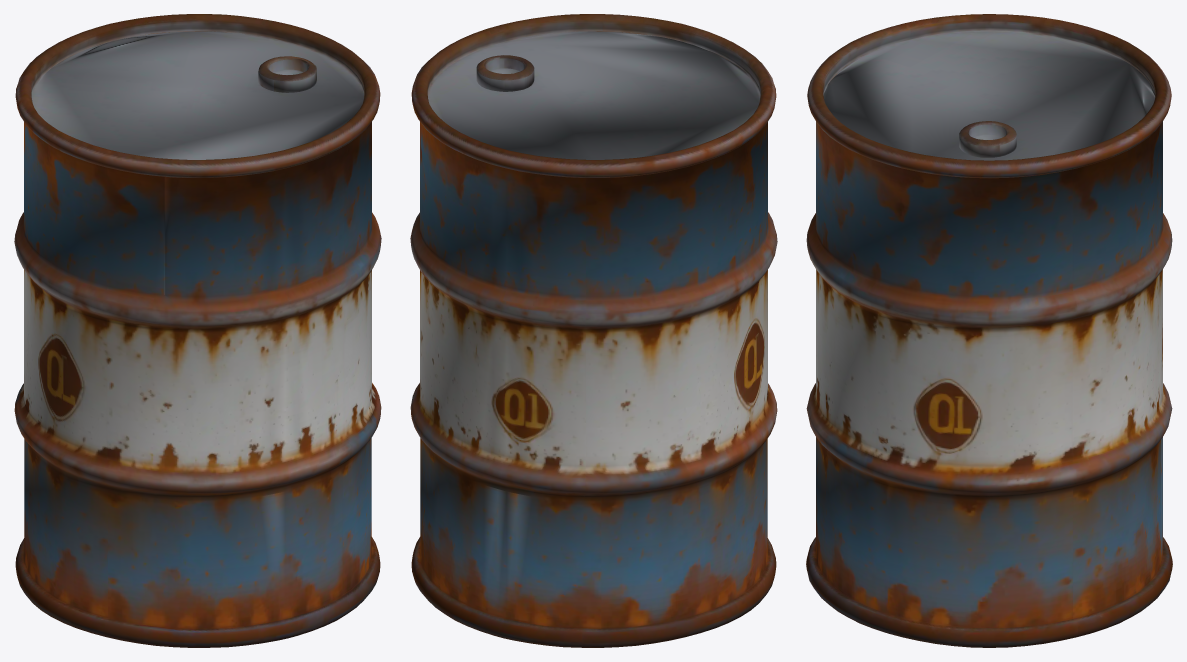
The model's file is rusty_oil_barrel_a1ef5c6b_v1.glb.
3 views of the same model, side by side, from view 1: azimuth 30°, elevation 25°; view 2: azimuth 150°, elevation 25°; view 3: azimuth 270°, elevation 25° (orthographic).
Parts seen in each view (by area): view 1: material; view 2: material; view 3: material.
Boxes of the visible parts, <box> form: material: <box>14,14,381,647</box>; material: <box>410,14,777,647</box>; material: <box>806,14,1172,647</box>.
Bounding box in the file's own units: 1.3 × 1.9 × 1.3.
Materials: 1 (1 with a texture image).
